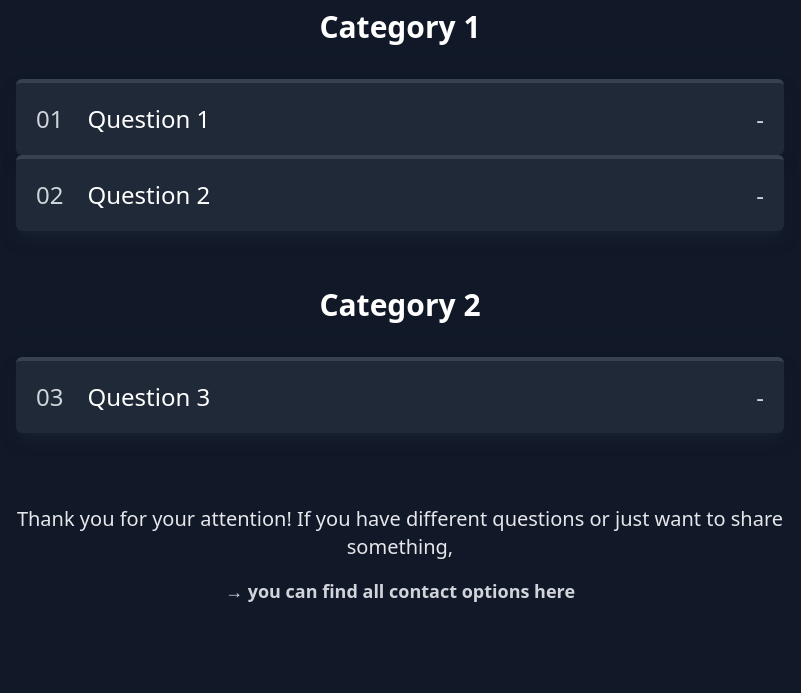
Test: Accordion › toggles questions independently
The image size is (801, 693).
Click the text "Question 1": (400,117) x1=16 y1=79 x2=784 y2=155
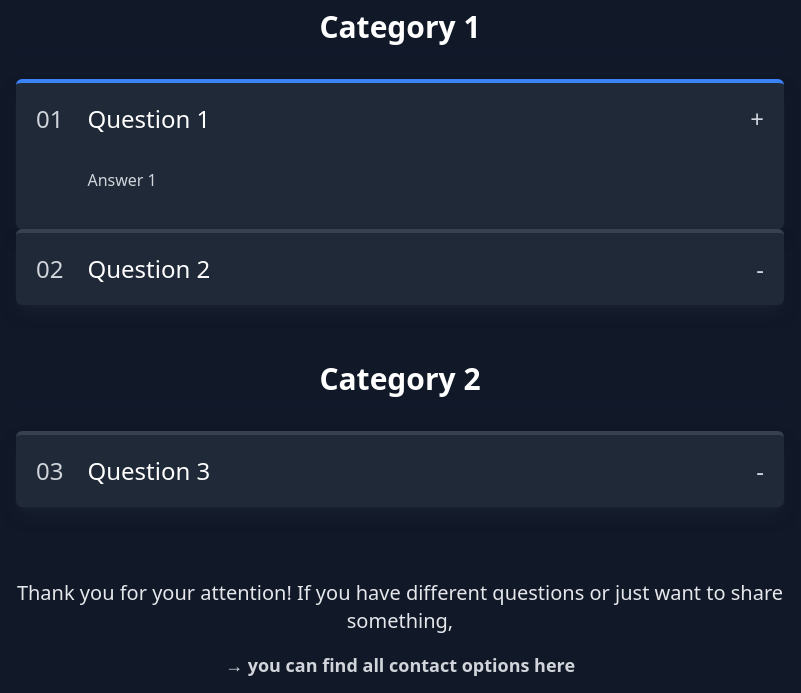
Check: the text "Answer 1" is shown, box x1=88 y1=169 x2=157 y2=191
Click the text "Question 2": (400,267) x1=16 y1=229 x2=784 y2=305
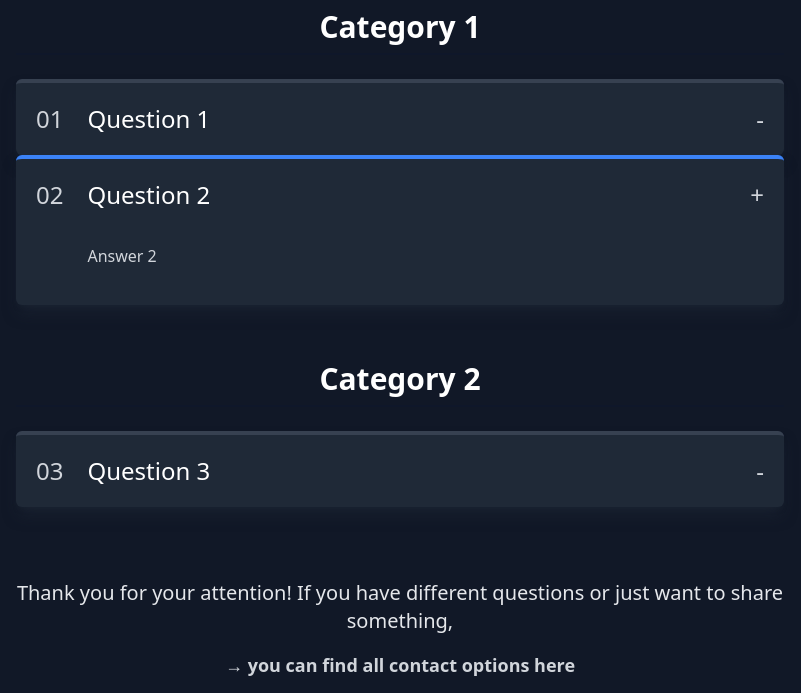
Check: the text "Answer 1" is gone
Check: the text "Answer 2" is shown, box x1=88 y1=245 x2=157 y2=267
Click the text "Question 3": (400,469) x1=16 y1=431 x2=784 y2=507
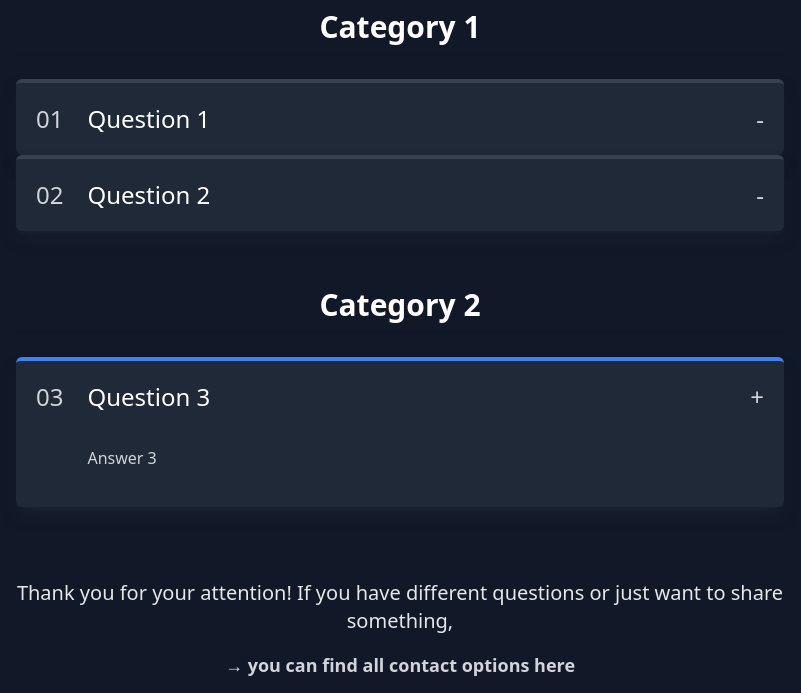
Check: the text "Answer 2" is gone
Check: the text "Answer 3" is shown, box x1=88 y1=447 x2=157 y2=469
